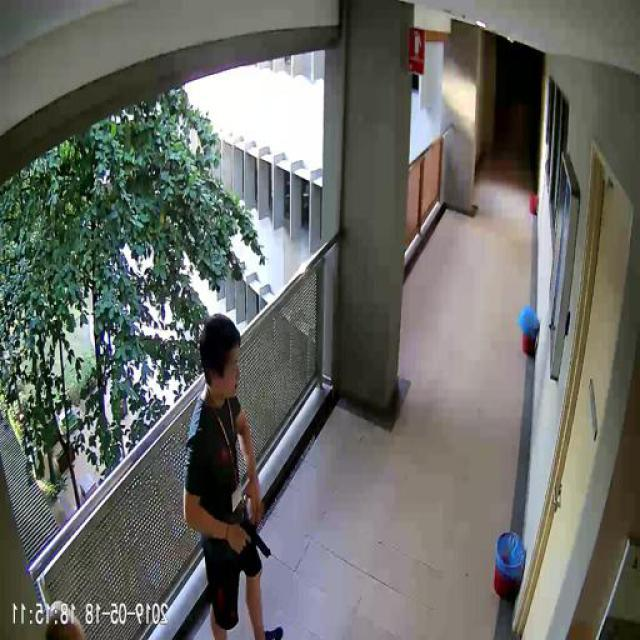Gun: (235, 514, 274, 558)
